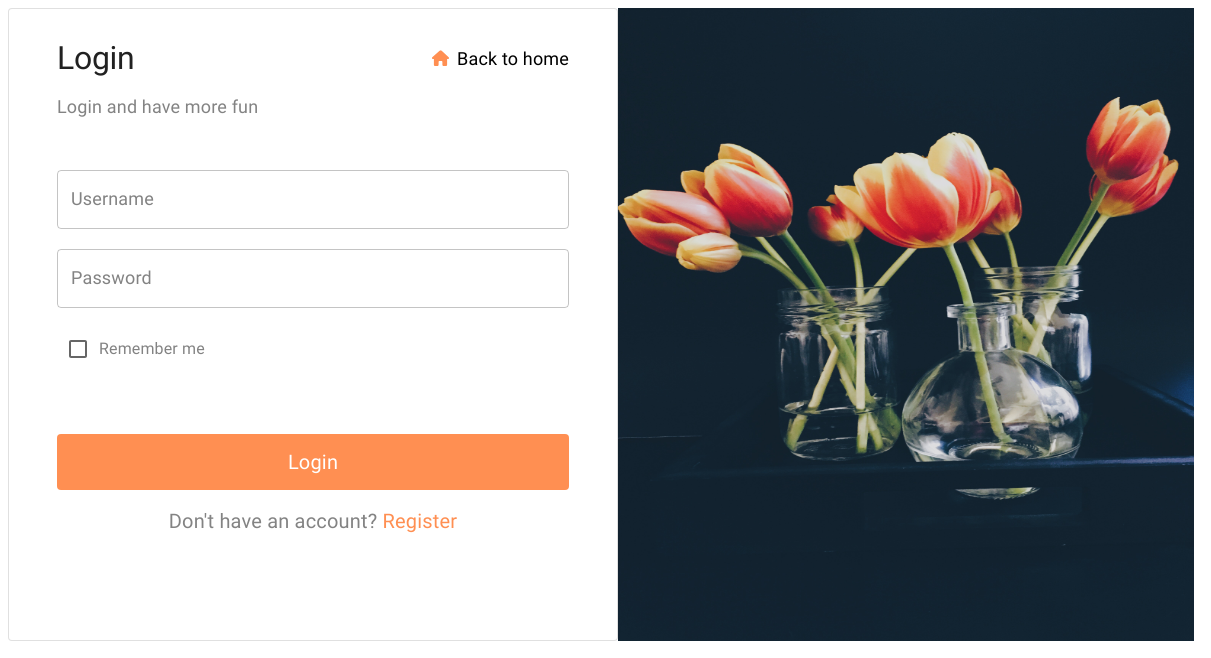
Test: <LoginComponent> › should display error message if username and password are not entered
The image size is (1211, 658).
Step 1. Click the button "Login" → (313,462), box x1=57 y1=434 x2=569 y2=490
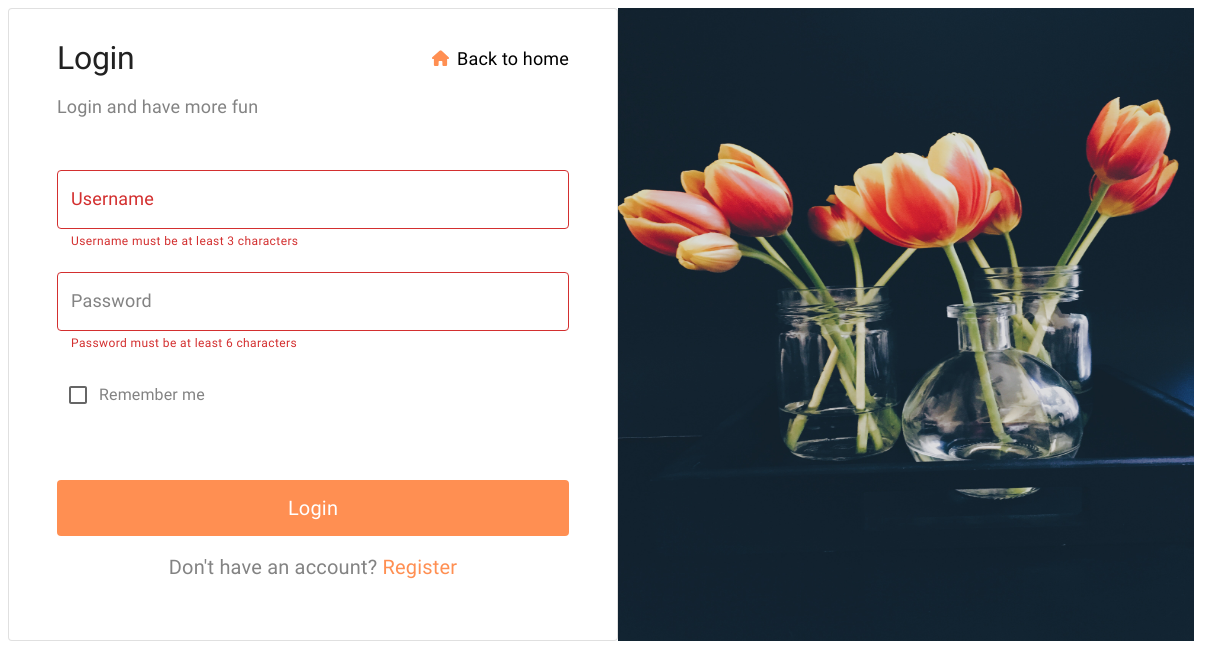
Expected: the text "Username must be at least 3 characters" is shown, x1=71 y1=234 x2=298 y2=248
Expected: the text "Password must be at least 6 characters" is shown, x1=71 y1=336 x2=297 y2=350
